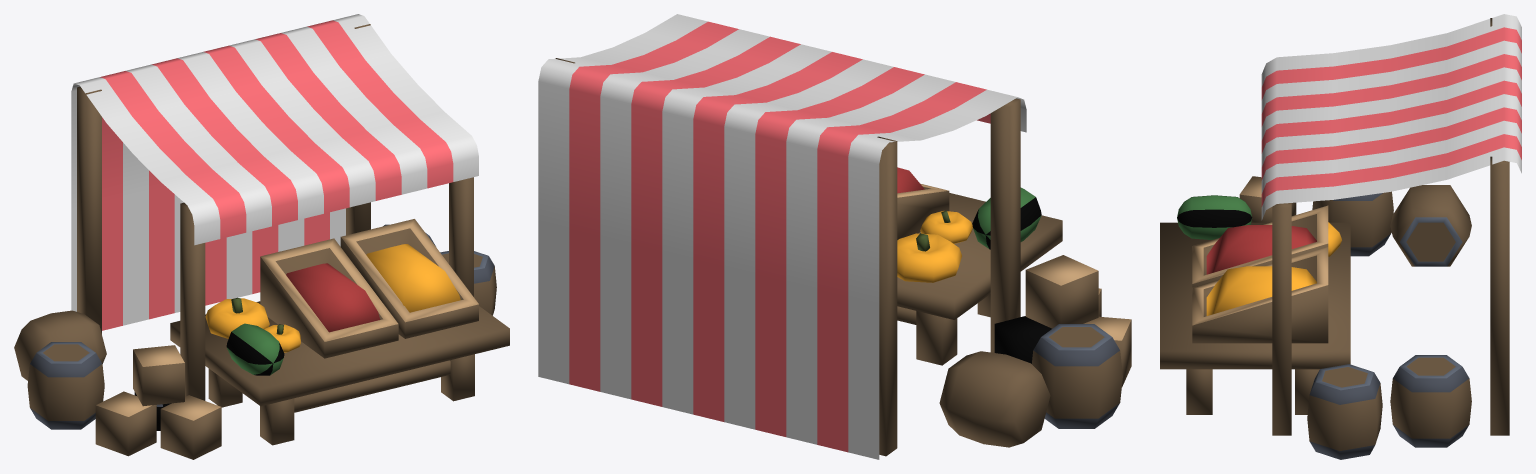
Rendered from Market.fbx.
3 renders of one model, left to right at view 1: azimuth 30°, elevation 25°; view 2: azimuth 150°, elevation 25°; view 3: azimuth 270°, elevation 25°, orthographic. The views are drawn at different scales.
Parts seen in each view (by area): view 1: Market; view 2: Market; view 3: Market.
Boxes of the visible parts, <box> form: Market: <box>14,14,509,459</box>; Market: <box>538,14,1131,459</box>; Market: <box>1160,14,1521,459</box>.
Size of the model in its own units: 429 by 236 by 281.
